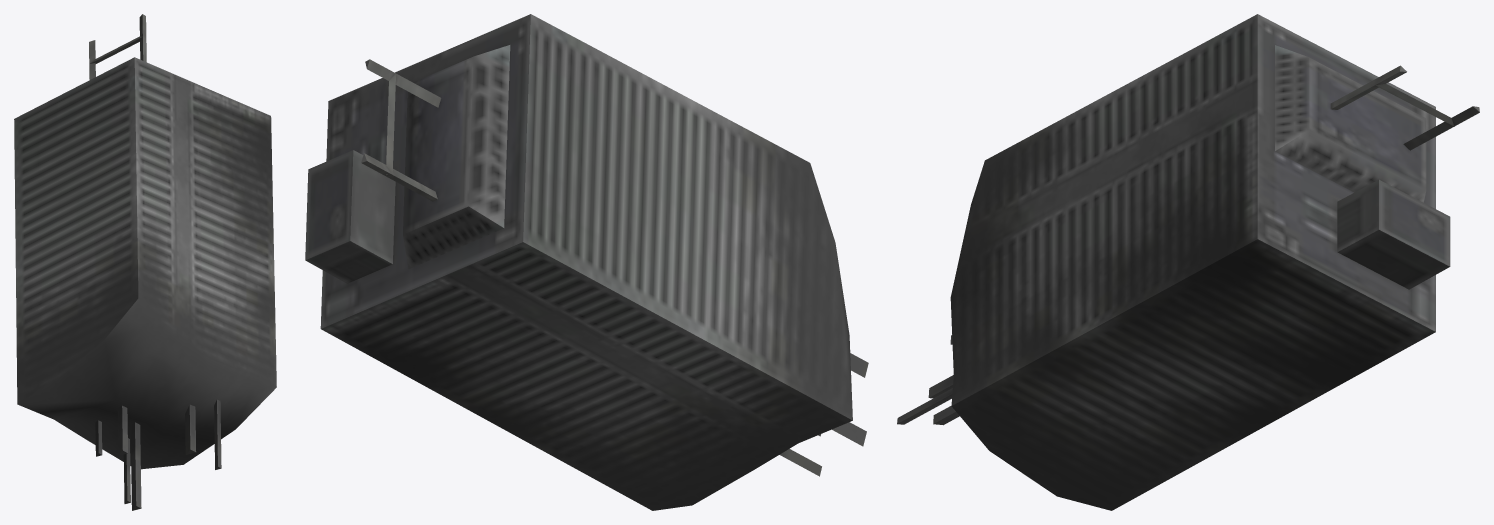
Rendered from skyBuildingAAC_pos_grp (7).fbx.
3 renders of one model, left to right at view 1: azimuth 30°, elevation 25°; view 2: azimuth 150°, elevation 25°; view 3: azimuth 270°, elevation 25°, orthographic. The views are drawn at different scales.
Visible parts, largest first — view 1: skyBuildingAAC_geo; view 2: skyBuildingAAC_geo; view 3: skyBuildingAAC_geo.
Boxes of the visible parts, box(x1,y1,x2,y2) form: skyBuildingAAC_geo: box(14, 14, 276, 510); skyBuildingAAC_geo: box(305, 14, 868, 510); skyBuildingAAC_geo: box(897, 14, 1479, 510).
Bounding box in the file's own units: 5.76 × 6.62 × 6.75.
